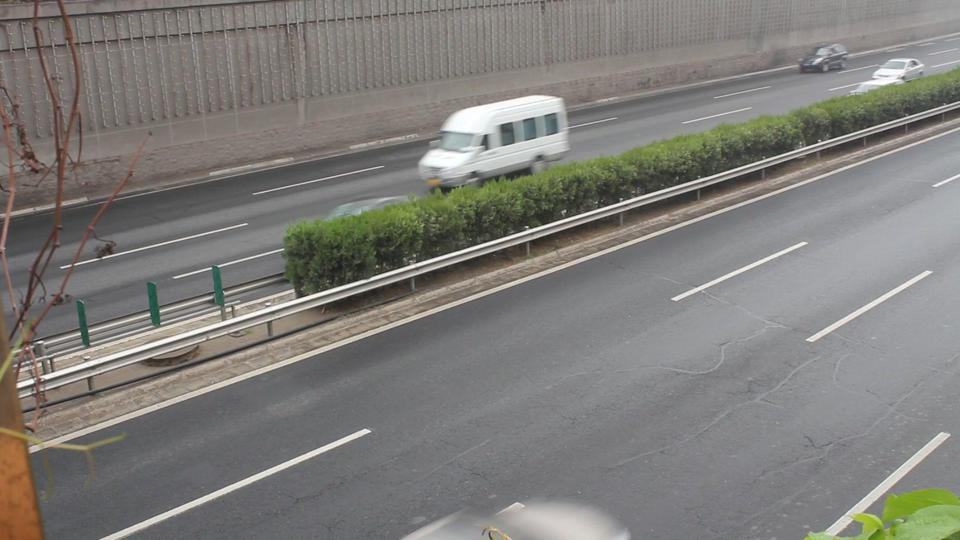Car: (291, 196, 426, 265), (835, 79, 905, 119), (797, 41, 847, 73)
Minivan: (416, 94, 566, 185)
